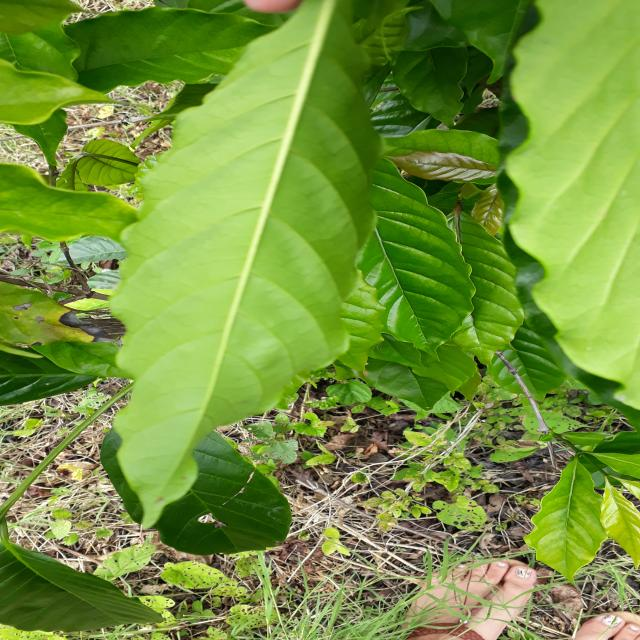Sanas: (102, 0, 382, 553)
